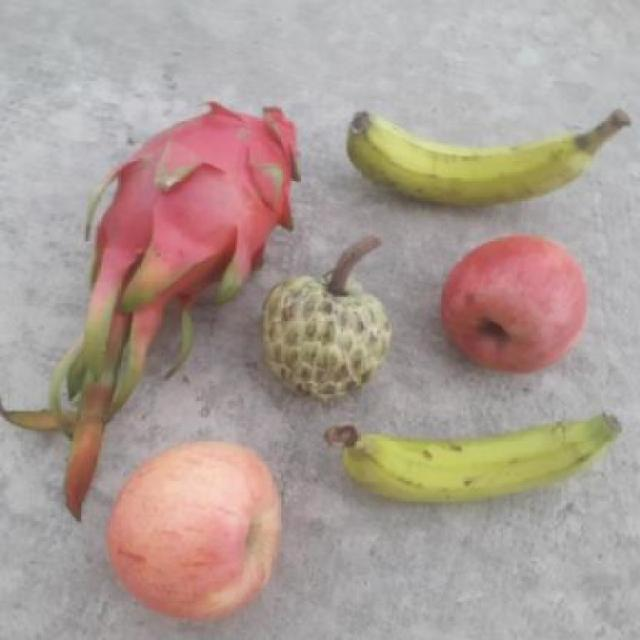apple: (104, 441, 294, 628), (438, 233, 598, 387)
banana: (341, 106, 628, 214), (330, 412, 625, 503)
dragon fruit: (88, 91, 310, 314)
sugar apple: (257, 254, 398, 401)
